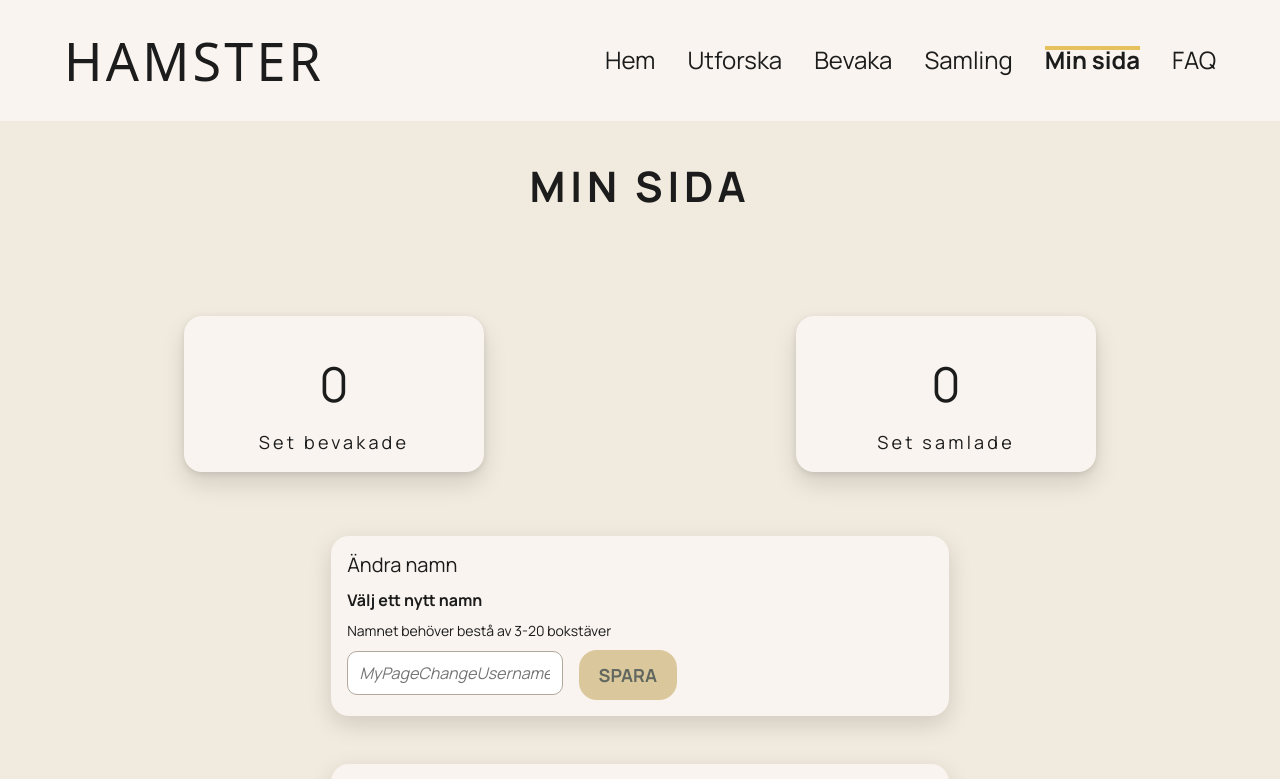
Scenario: Visit /mypage › can change username and persists in localstorage
Type "NewName" into the field with test id "username-input" at [455, 673], box [347, 651, 562, 695]
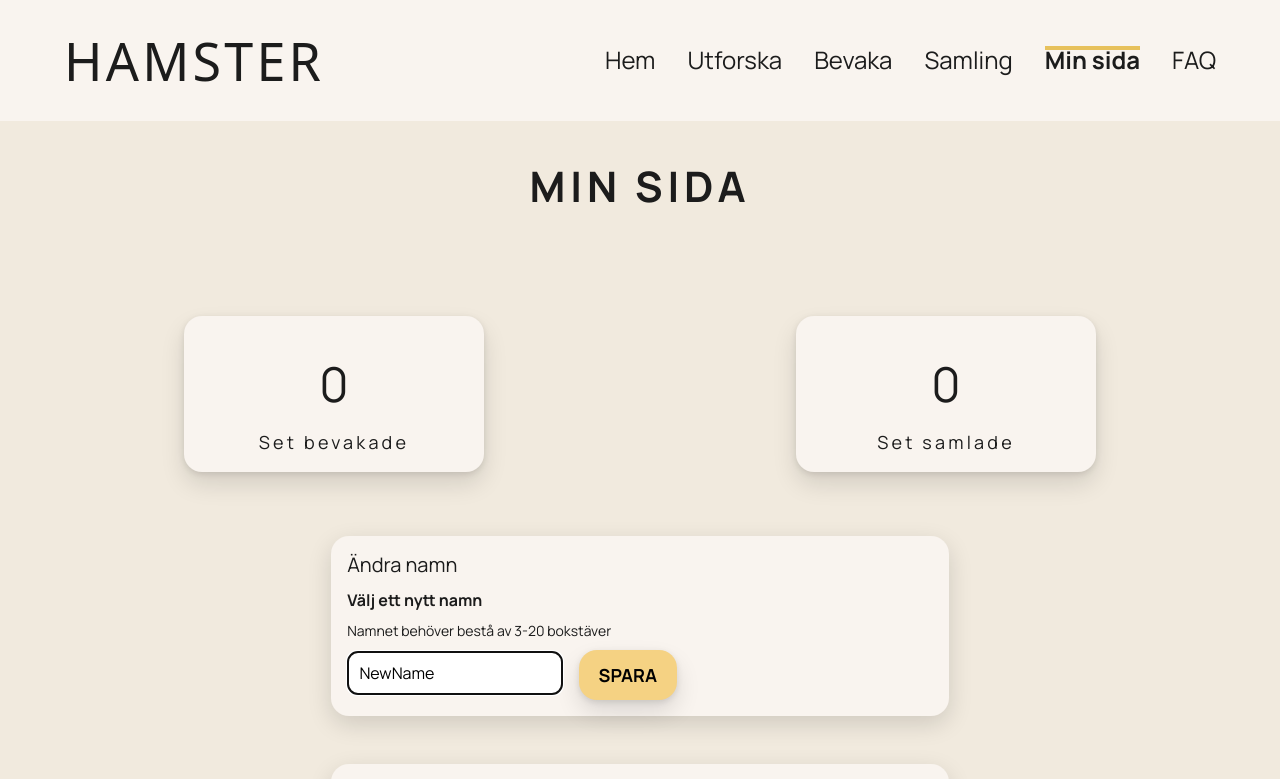
Click the button with test id "save-username" at [629, 675], box [579, 650, 678, 700]
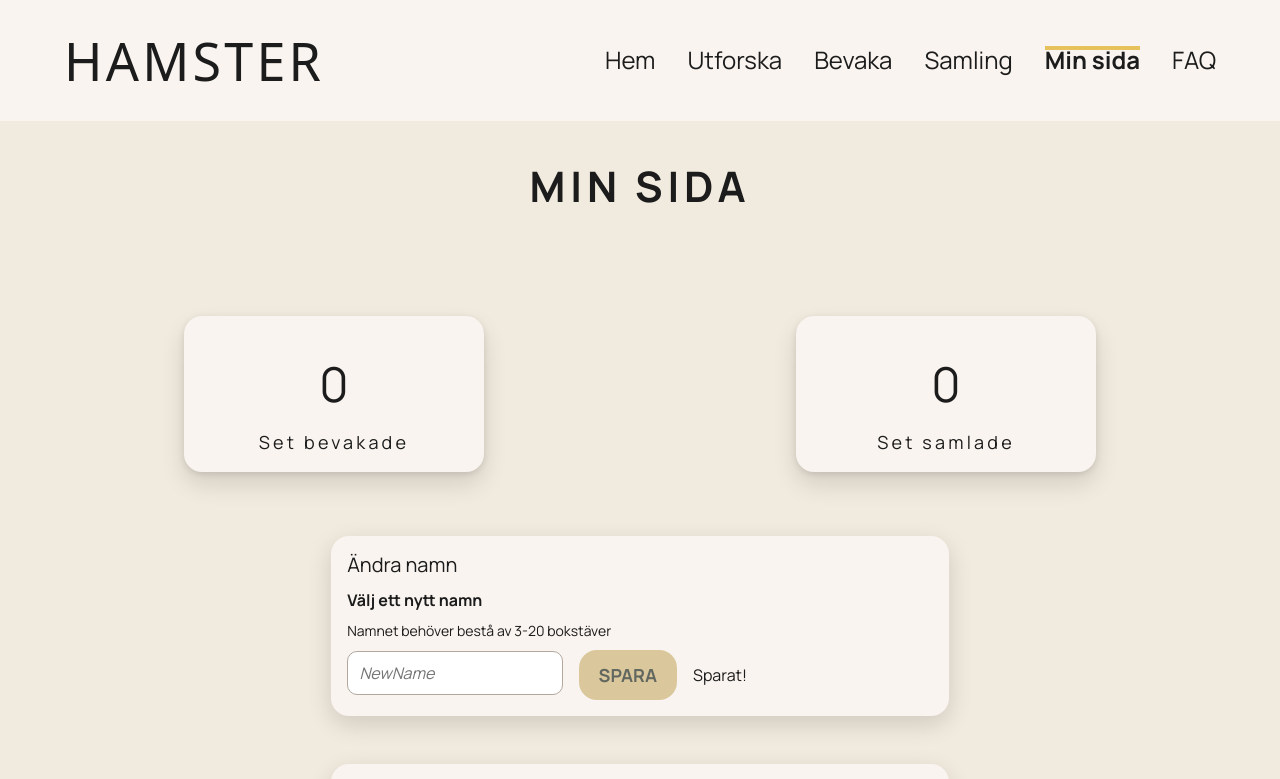
Result: the message with test id "save-message" reads "Sparat!" at [693, 664, 747, 686]
